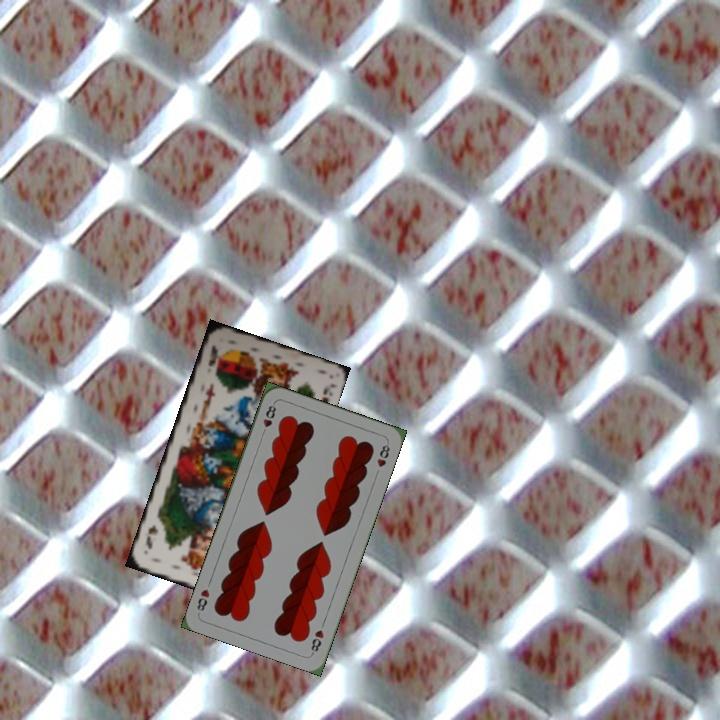H8: (258, 399, 279, 439), (307, 626, 326, 656)
SK: (204, 341, 221, 368)
